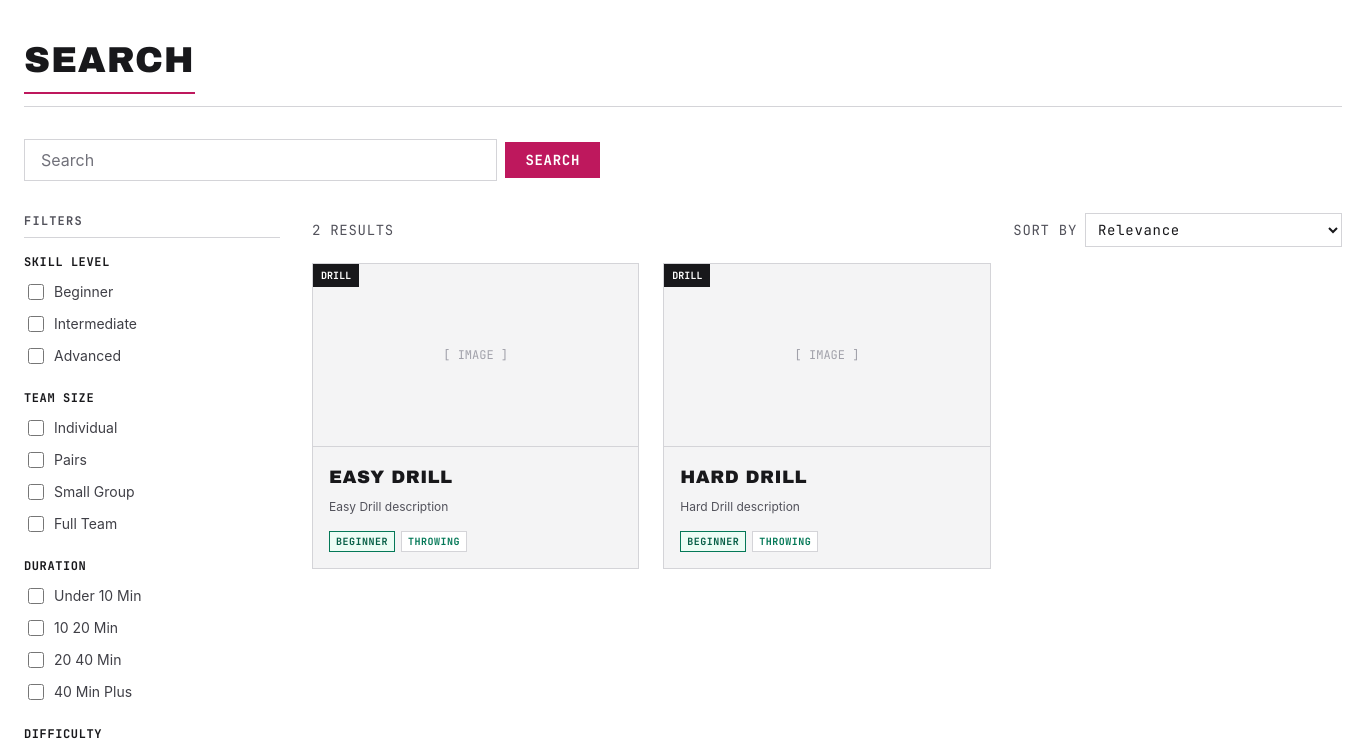
Test: Search page — sorting › switching sort re-queries with the sort param and reorders results
Check: the link "Easy Drill" is shown, box [329, 467, 452, 487]
Select "Difficulty (high to low)" in the dropdown labelled "Sort by": (1214, 230) [1085, 213, 1342, 247]
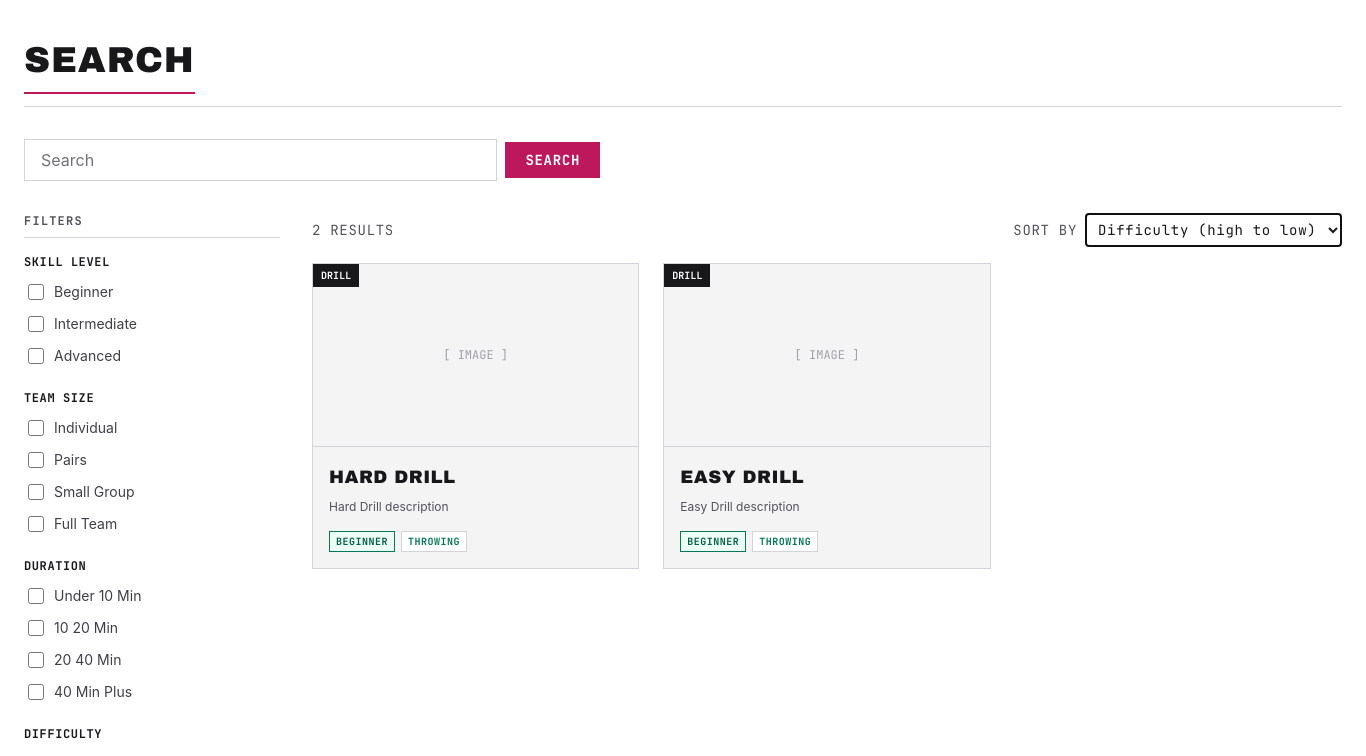
Check: the link "Hard Drill" is shown, box [329, 467, 456, 487]
